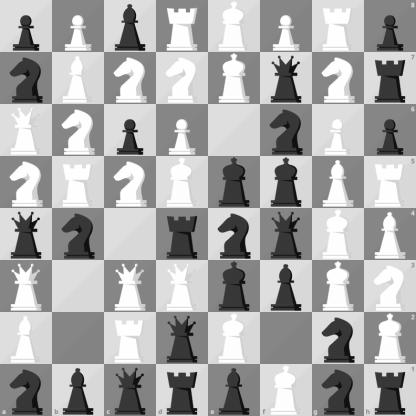B: (364, 209, 416, 260), (1, 313, 52, 364), (53, 53, 104, 104), (313, 157, 364, 208)
K: (260, 364, 312, 416), (364, 312, 416, 364), (157, 157, 208, 208), (209, 1, 260, 52), (209, 53, 260, 104), (209, 313, 260, 364), (313, 209, 364, 260), (313, 261, 364, 312)
N: (364, 260, 416, 312), (1, 157, 52, 208), (53, 105, 104, 156), (105, 53, 156, 104), (105, 157, 156, 208), (157, 53, 208, 104), (313, 53, 364, 104)
P: (53, 1, 104, 52), (157, 105, 208, 156), (261, 1, 312, 52), (313, 105, 364, 156)
Q: (1, 105, 52, 156), (1, 261, 52, 312), (105, 261, 156, 312), (157, 261, 208, 312)
R: (364, 156, 416, 209), (53, 157, 104, 208), (105, 313, 156, 364), (157, 1, 208, 52), (313, 1, 364, 52)
b: (52, 364, 104, 416), (209, 364, 260, 416), (105, 1, 156, 52), (261, 261, 312, 312)
board: (0, 0, 415, 415)
k: (209, 157, 260, 208), (209, 261, 260, 312), (261, 157, 312, 208)
n: (0, 364, 52, 416), (312, 364, 364, 416), (1, 53, 52, 104), (53, 209, 104, 260), (209, 209, 260, 260), (261, 105, 312, 156), (313, 313, 364, 364)
p: (364, 0, 416, 52), (364, 104, 416, 156), (1, 1, 52, 52), (105, 105, 156, 156)
q: (104, 364, 156, 416), (1, 209, 52, 260), (157, 313, 208, 364), (261, 53, 312, 104), (261, 209, 312, 260)
r: (156, 364, 209, 416), (364, 52, 416, 104), (364, 364, 416, 416), (157, 209, 208, 260)
